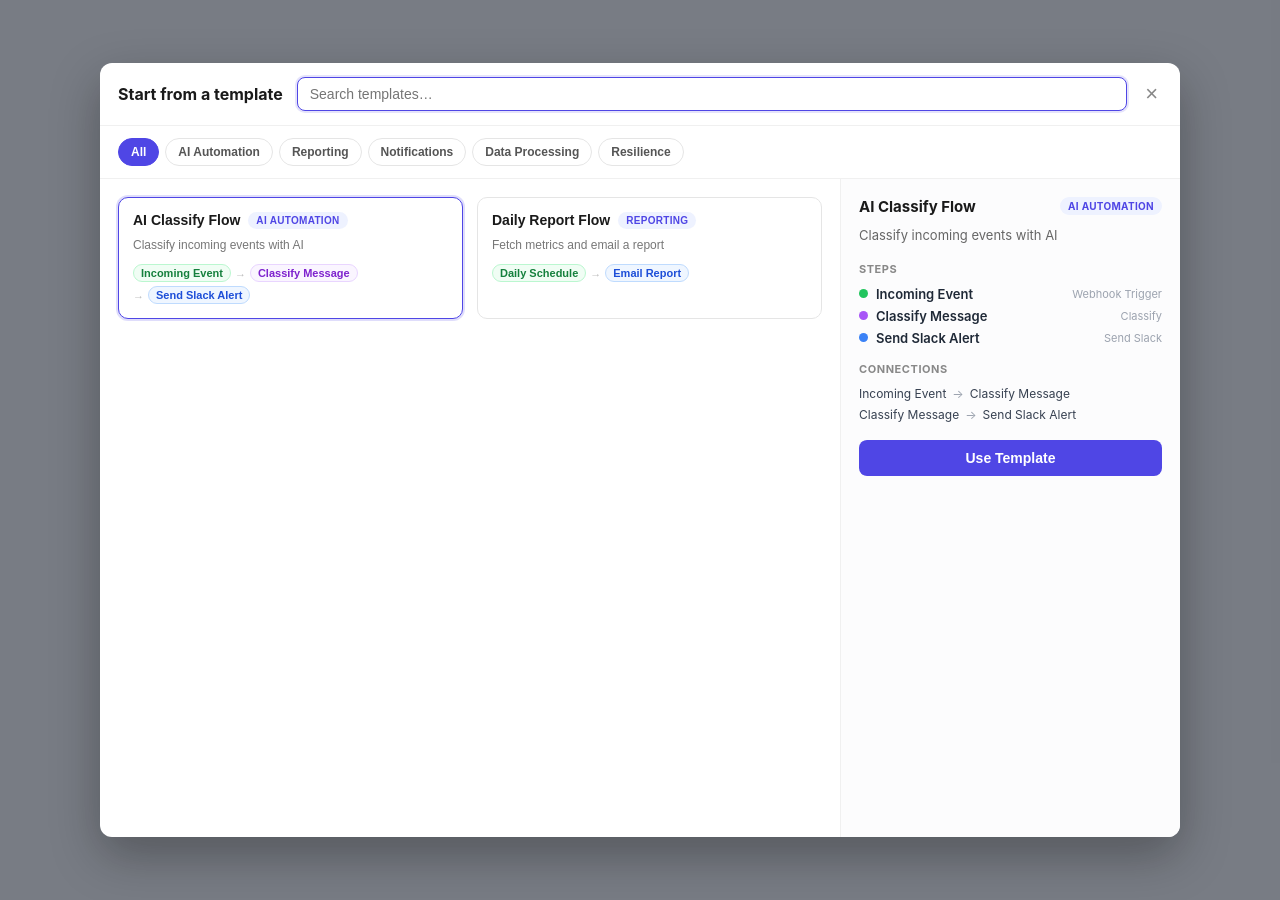
TemplateGallery › previews the selected template (auto-selects the first, switches on click)
This screenshot has width=1280, height=900.
Expected: the heading "AI Classify Flow" is shown, left=859, top=197, right=976, bottom=216
Expected: the heading "Steps" is shown, left=859, top=262, right=897, bottom=276
Click the button "Fetch metrics and email a report" at (551, 220), box left=477, top=197, right=822, bottom=319
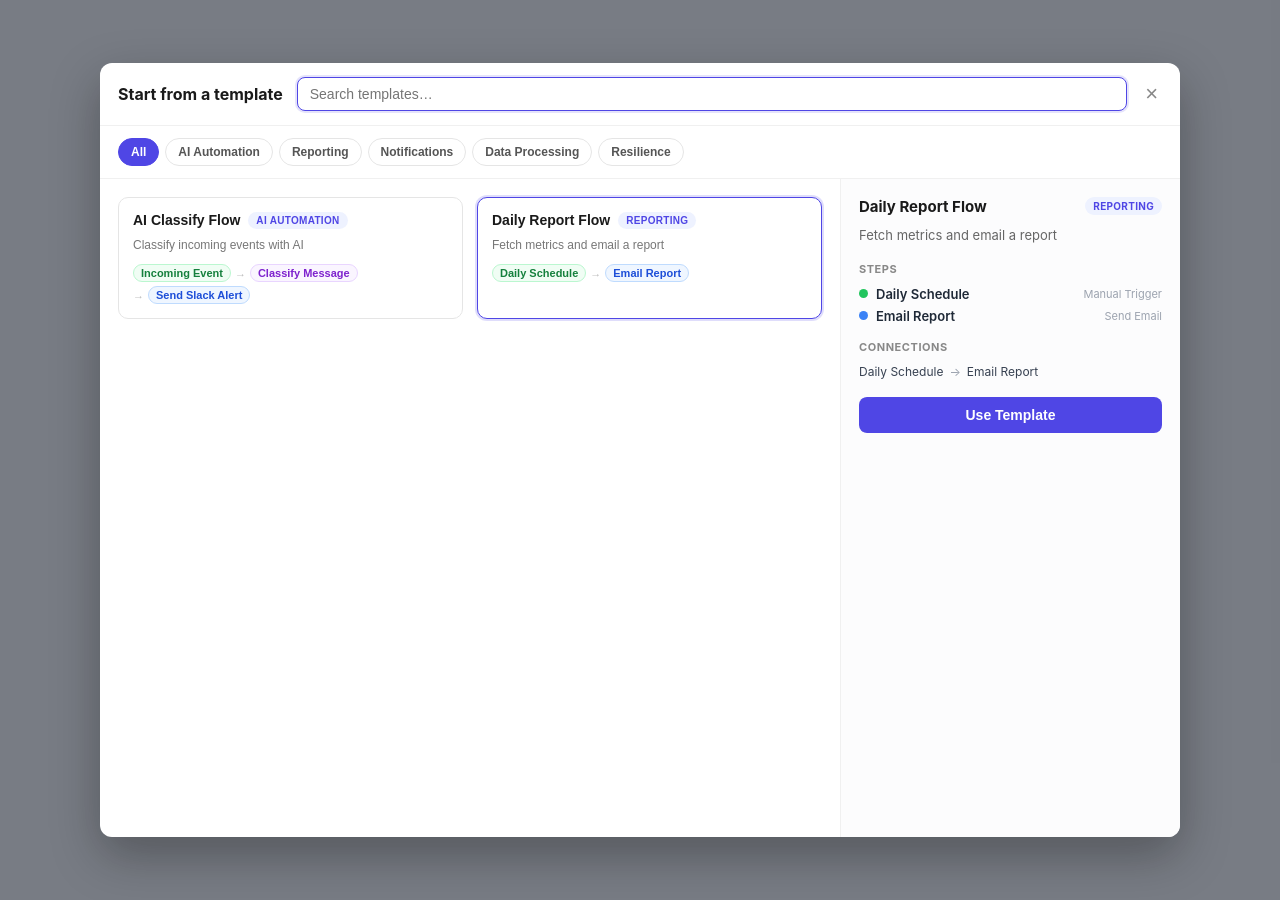
Now the heading "Daily Report Flow" is shown, box left=859, top=197, right=987, bottom=216
